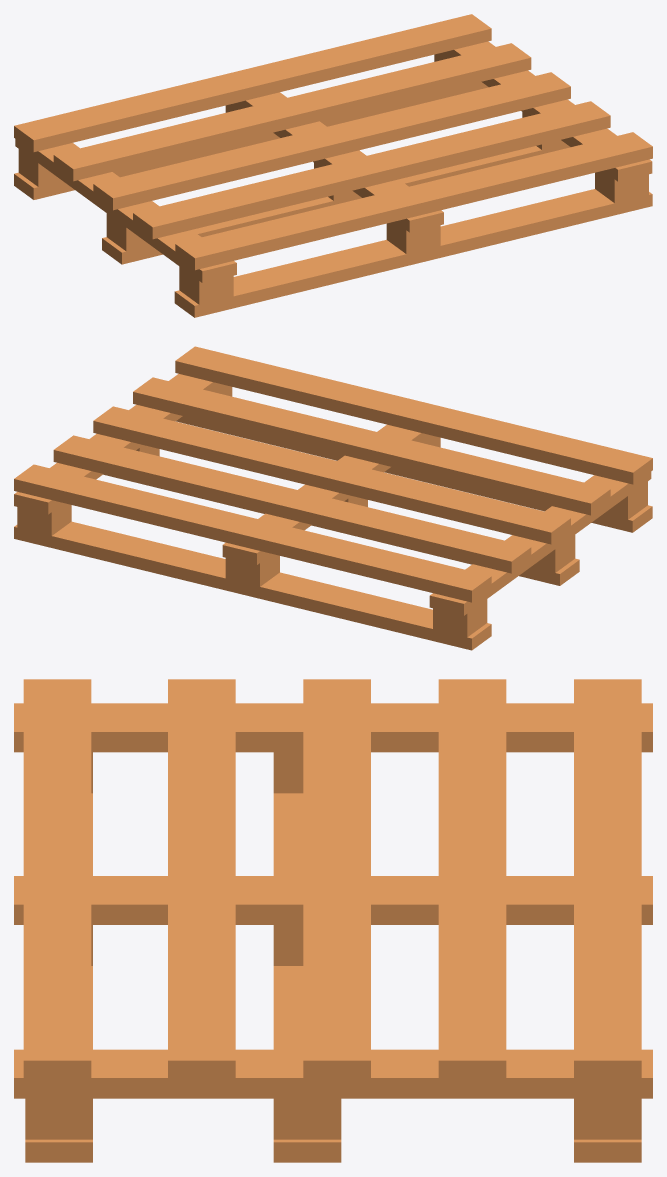
The model's file is PaletteWooden.fbx.
3 views of the same model, one above another, from view 1: azimuth 30°, elevation 25°; view 2: azimuth 150°, elevation 25°; view 3: azimuth 270°, elevation 25° (orthographic). The views are drawn at different scales.
Visible parts, largest first — view 1: PaletteWooden; view 2: PaletteWooden; view 3: PaletteWooden.
Boxes of the visible parts, x1=… form: PaletteWooden: x1=14, y1=14, x2=652, y2=317; PaletteWooden: x1=14, y1=346, x2=652, y2=650; PaletteWooden: x1=14, y1=679, x2=652, y2=1162.
Bounding box in the file's own units: 200 × 25 × 142.
